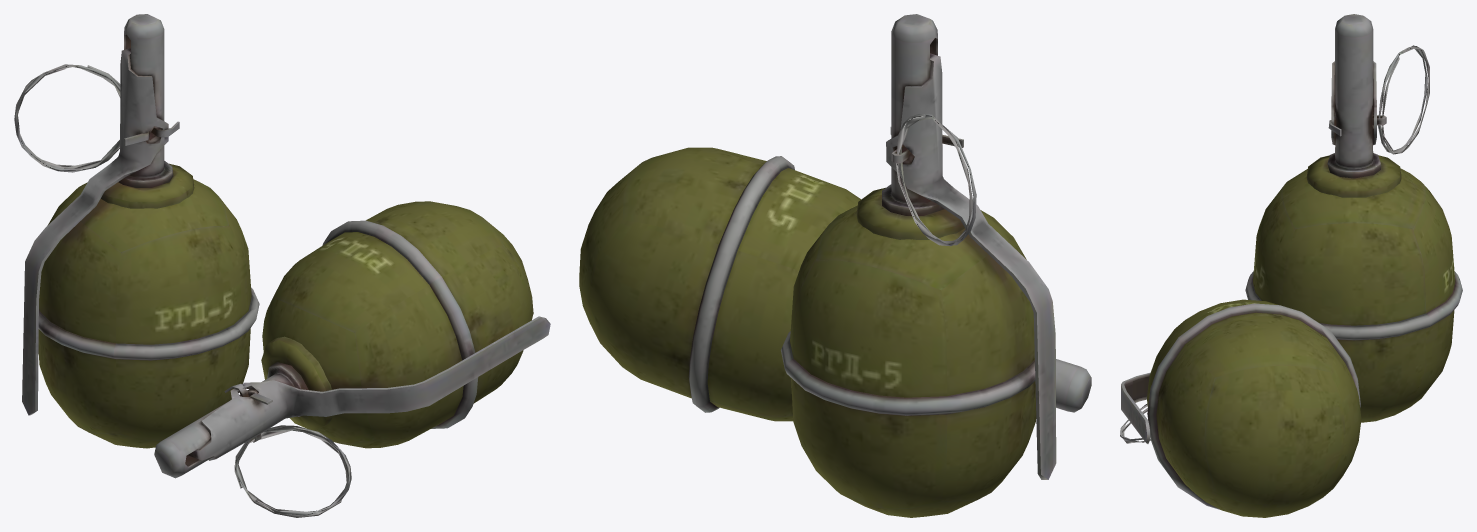
Rendered from rgd5.glb.
3 renders of one model, left to right at view 1: azimuth 30°, elevation 25°; view 2: azimuth 150°, elevation 25°; view 3: azimuth 270°, elevation 25°, orthographic. The views are drawn at different scales.
Parts seen in each view (by area): view 1: gronate.007_low_Material.003_0; view 2: gronate.007_low_Material.003_0; view 3: gronate.007_low_Material.003_0.
Part boxes in pixels (<box>): gronate.007_low_Material.003_0: <box>14,14,550,517</box>; gronate.007_low_Material.003_0: <box>579,14,1091,517</box>; gronate.007_low_Material.003_0: <box>1120,14,1462,517</box>.
Size of the model in its own units: 0.1147 by 0.1041 by 0.0821.
1 material, 1 textured.
